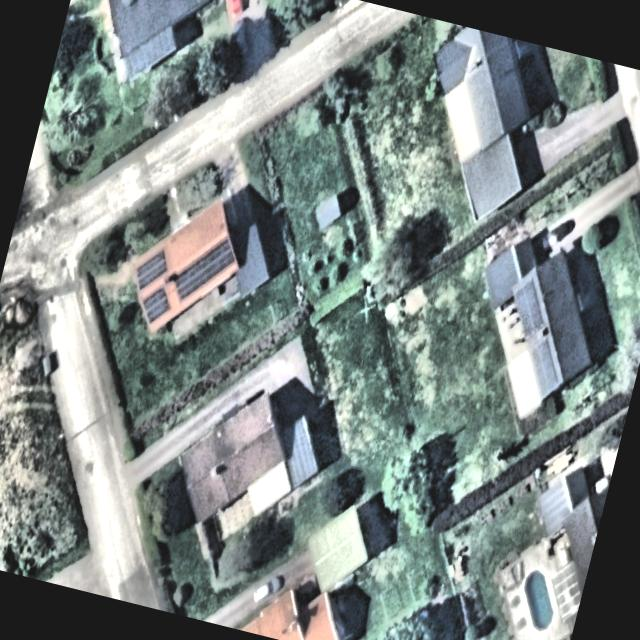roof_pv: (170, 224, 240, 311), (520, 335, 568, 403), (506, 278, 552, 340), (130, 238, 175, 294), (133, 277, 178, 331)
